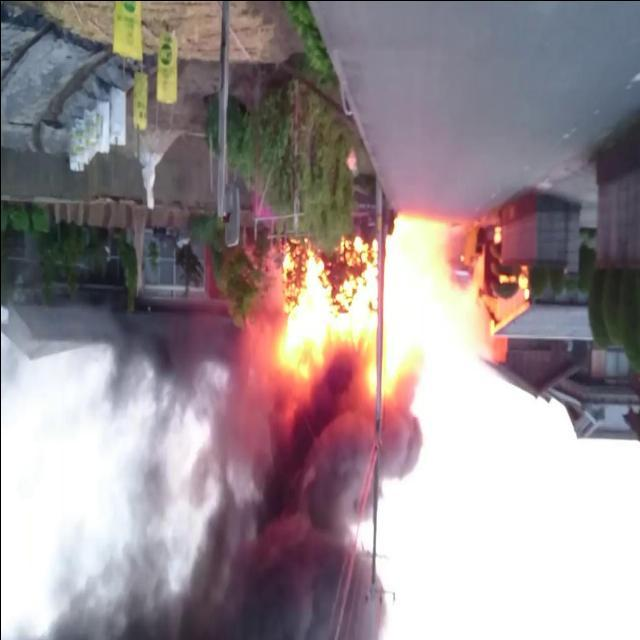Fire: (267, 208, 477, 390)
